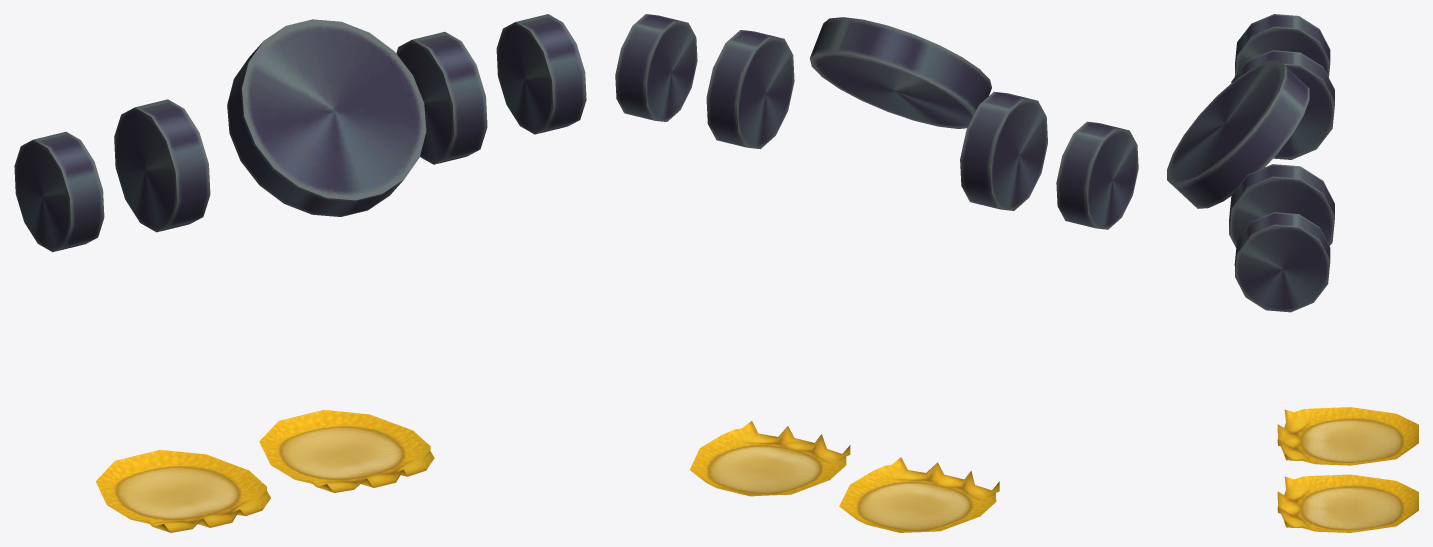
Rendered from bowser2.obj.
The picture shows the model from 3 angles, left to right: view 1: azimuth 30°, elevation 25°; view 2: azimuth 150°, elevation 25°; view 3: azimuth 270°, elevation 25°; orthographic projection. The views are drawn at different scales.
Visible parts, largest first — view 1: Joint_4_Object_0_SINGLE, Joint_4_Object_10_SINGLE; view 2: Joint_4_Object_0_SINGLE, Joint_4_Object_10_SINGLE; view 3: Joint_4_Object_0_SINGLE, Joint_4_Object_10_SINGLE.
Part boxes in pixels (x1,y1,x2,y2): Joint_4_Object_0_SINGLE: [14, 14, 586, 252]; Joint_4_Object_10_SINGLE: [96, 410, 434, 532]; Joint_4_Object_0_SINGLE: [615, 14, 1138, 229]; Joint_4_Object_10_SINGLE: [690, 421, 999, 532]; Joint_4_Object_0_SINGLE: [1167, 14, 1334, 312]; Joint_4_Object_10_SINGLE: [1277, 407, 1418, 532].
Bounding box in the file's own units: 23.25 × 20.68 × 11.68.
